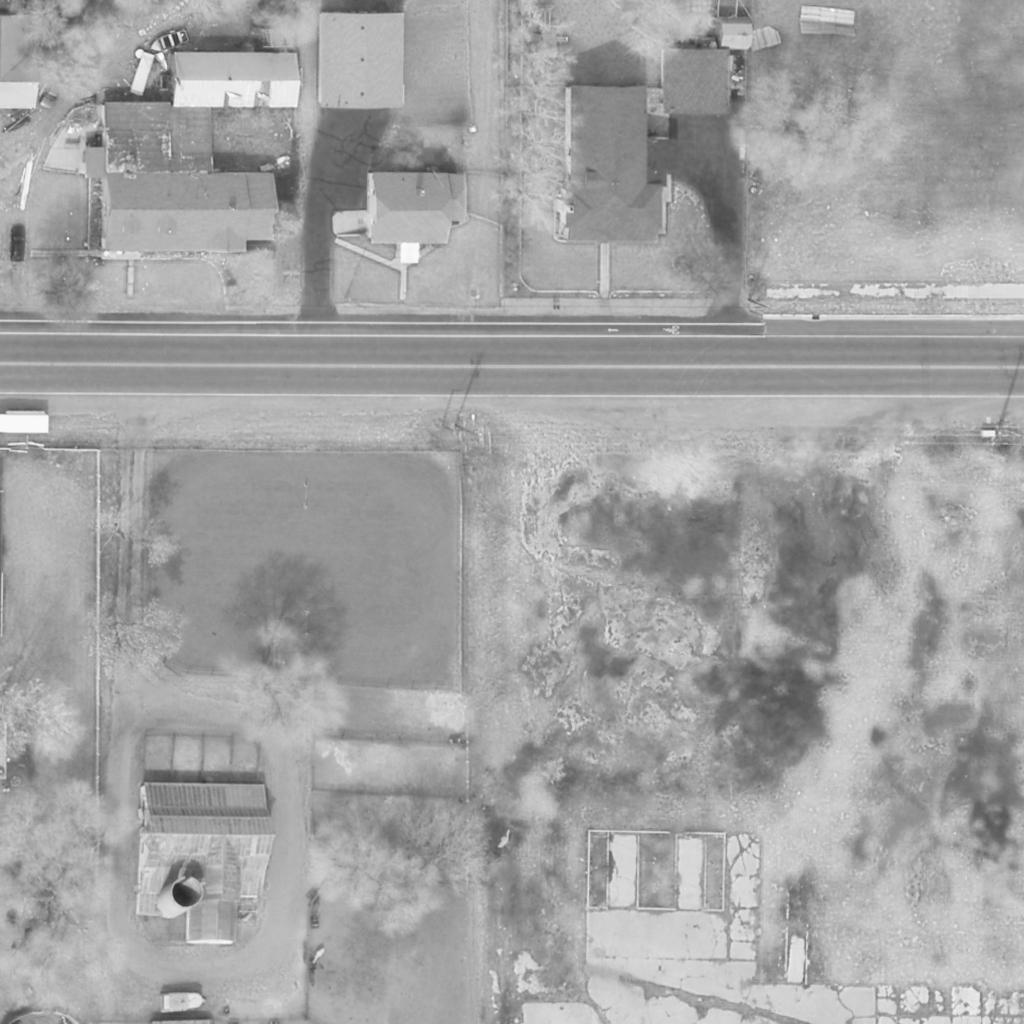vehicle: (146, 28, 194, 56), (40, 69, 70, 111), (128, 52, 156, 96), (161, 992, 209, 1014), (9, 223, 27, 263)
